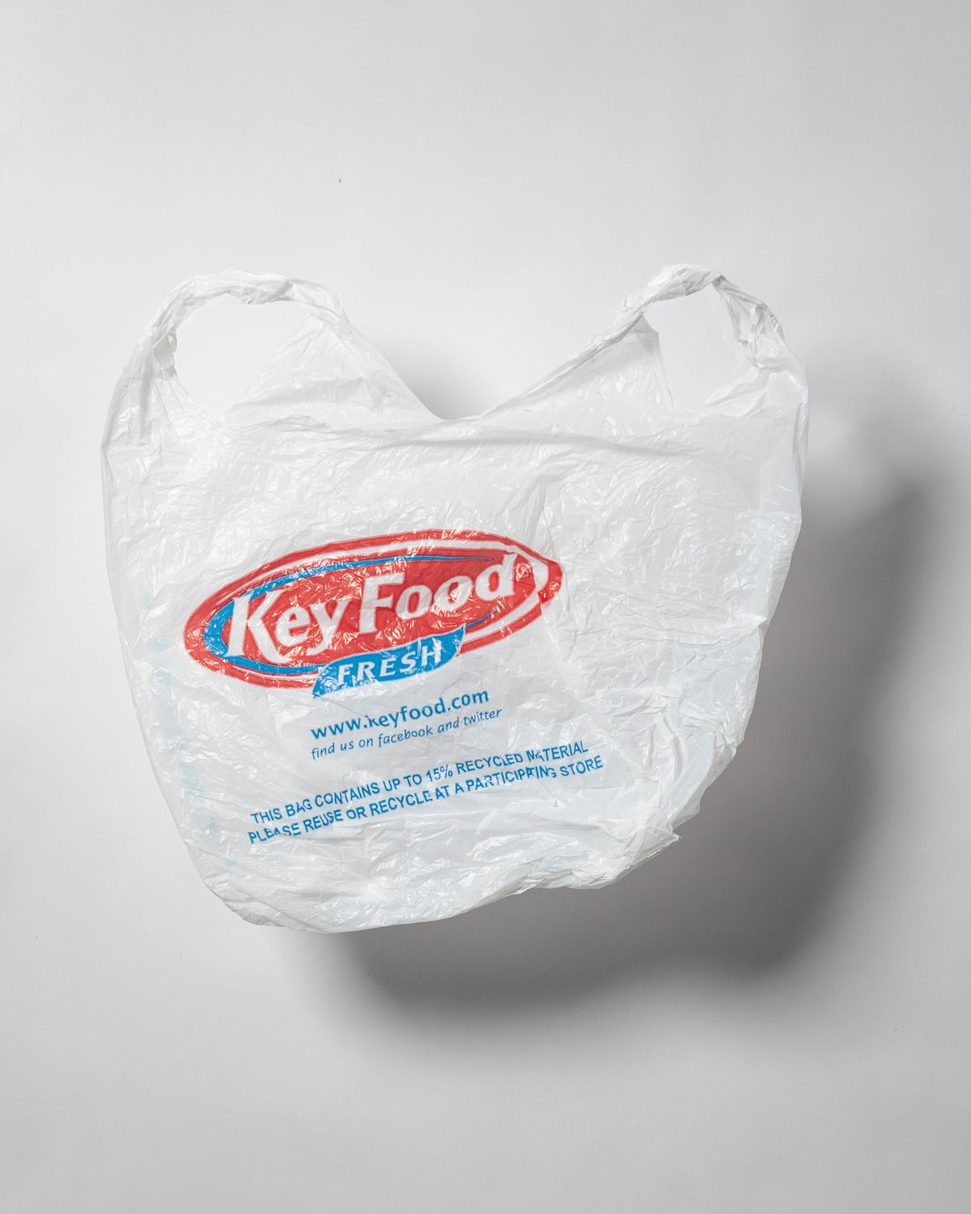Plastic: (96, 262, 809, 936)
